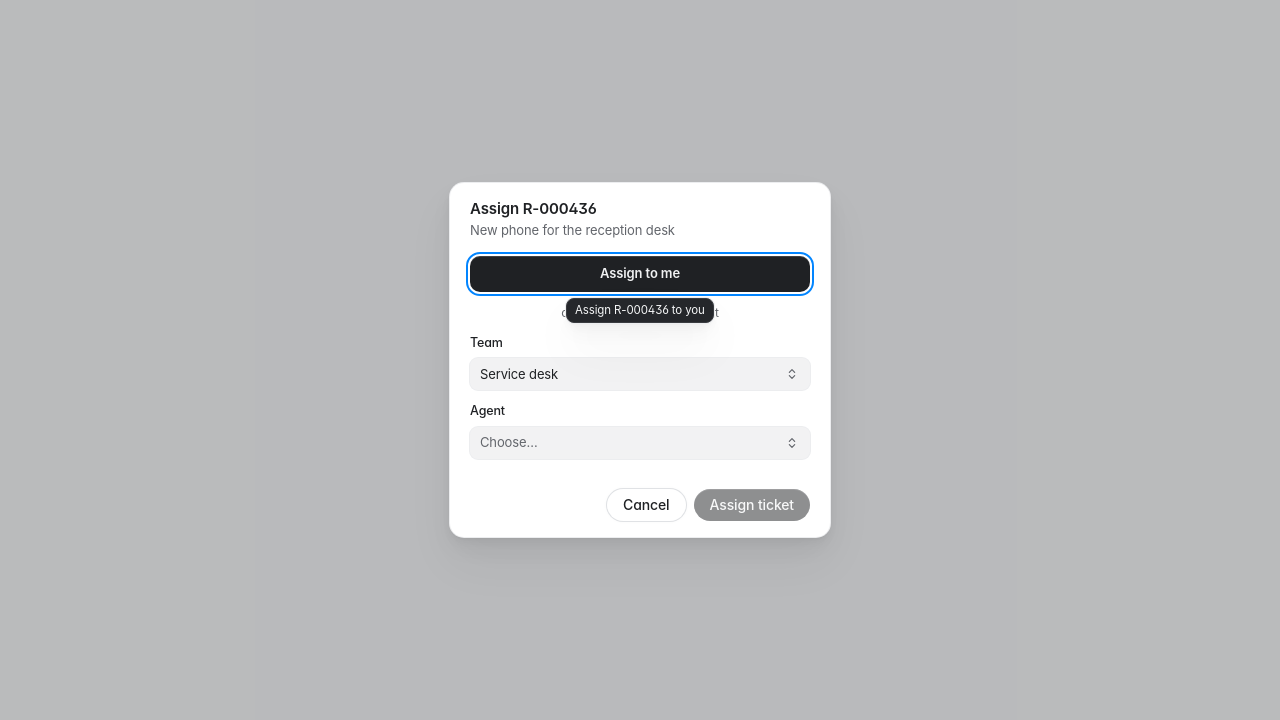
Test: Assign sheet (section 6) › shows the race error in the sheet (ASG-2, ASG-7)
This screenshot has width=1280, height=720.
Step 1. Click the button "Assign to me" → point(640, 274), box x1=470 y1=256 x2=810 y2=292
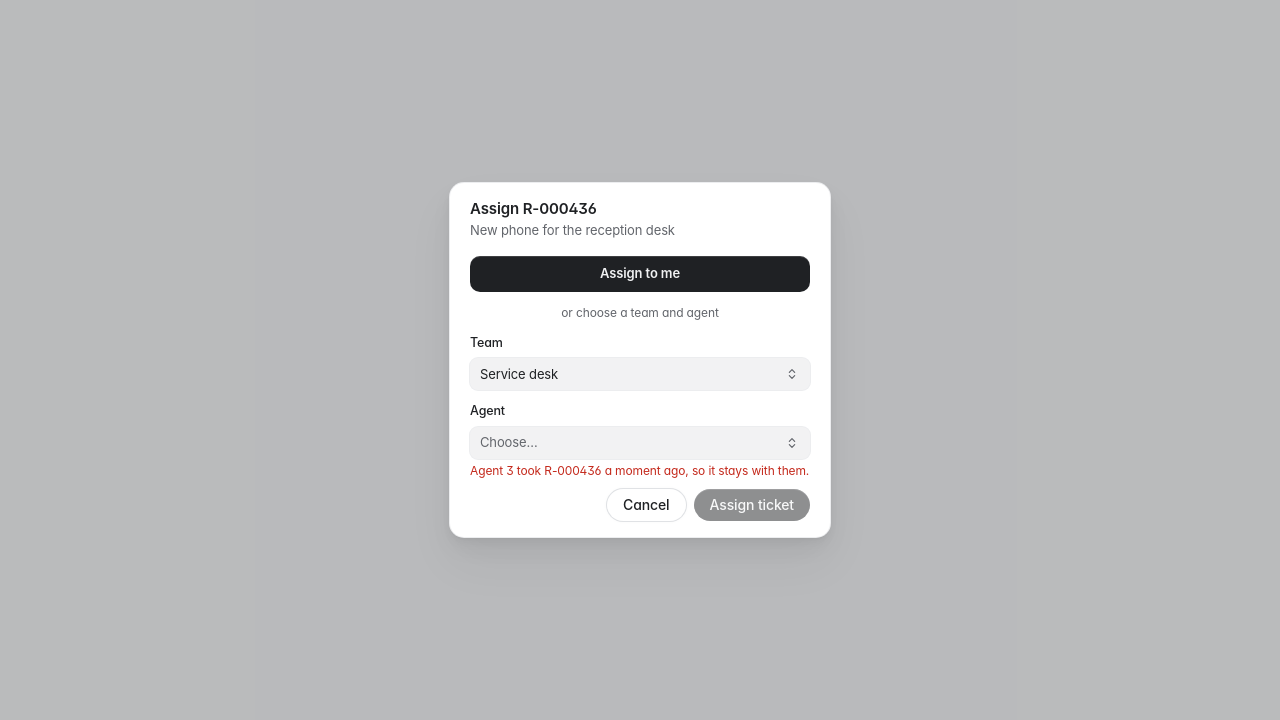
expect the text "Agent 3 took R-000436 a moment ago, so it stays with them." is shown: met, box x1=470 y1=463 x2=810 y2=480
